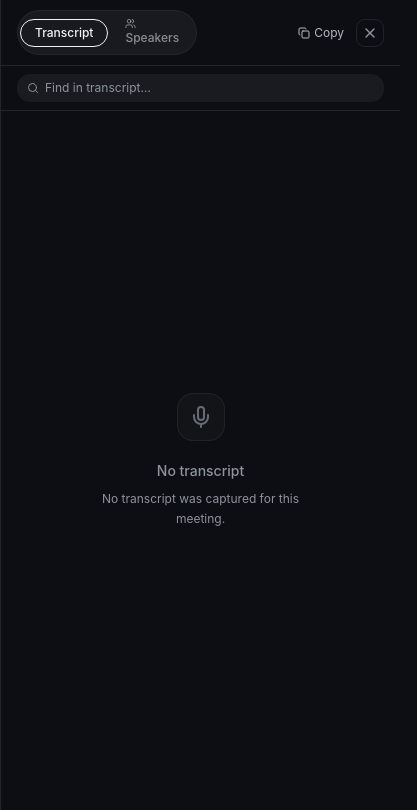
TranscriptDrawer › find-in-transcript (plan v9 #11) › find mode keeps context visible, counts matches, and steps with Enter
Type "budget" into the field named "Search transcript" at coordinates (210, 88), box [45, 80, 374, 96]
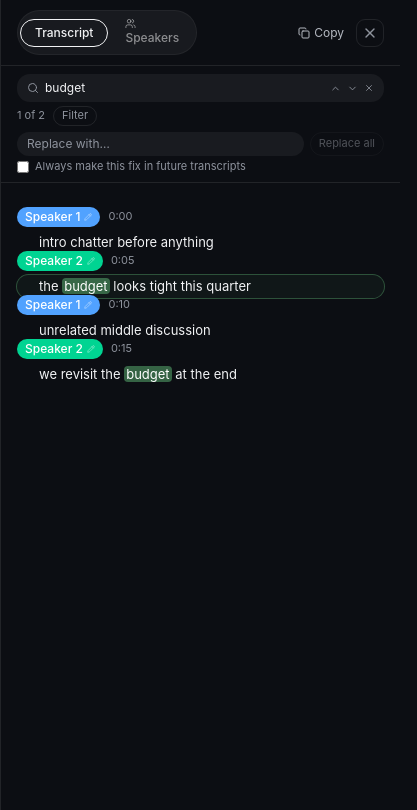
Result: the text with test id "match-count" reads "1 of 2" at [17, 108, 45, 122]
Result: the text "unrelated middle discussion" is shown at [39, 322, 211, 338]
Press Enter in the field named "Search transcript", box [45, 80, 324, 96]
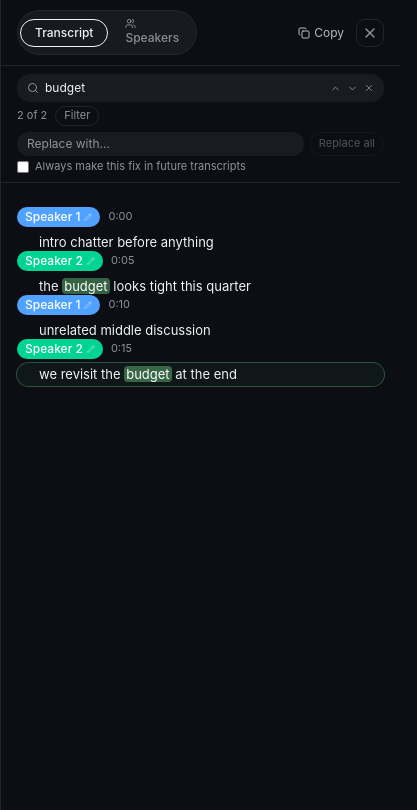
Result: the text with test id "match-count" reads "2 of 2" at [17, 108, 47, 122]
// Wraps around.
Press Enter in the field named "Search transcript", box [45, 80, 324, 96]
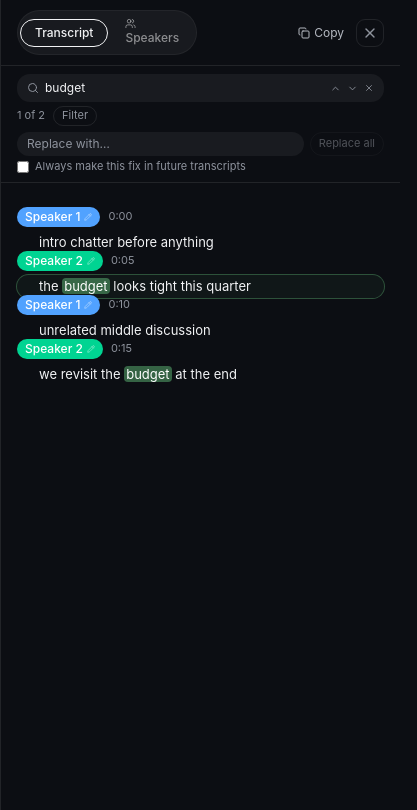
Result: the text with test id "match-count" reads "1 of 2" at [17, 108, 45, 122]
// Shift+Enter goes back (wrapping to the end).
Press Enter in the field named "Search transcript", box [45, 80, 324, 96]
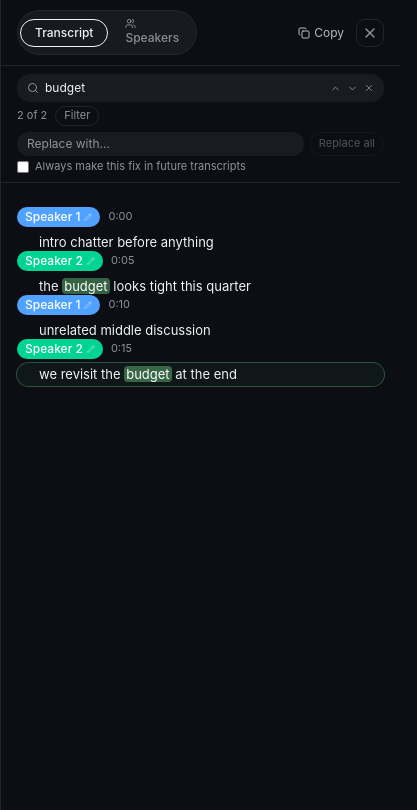
Result: the text with test id "match-count" reads "2 of 2" at [17, 108, 47, 122]
